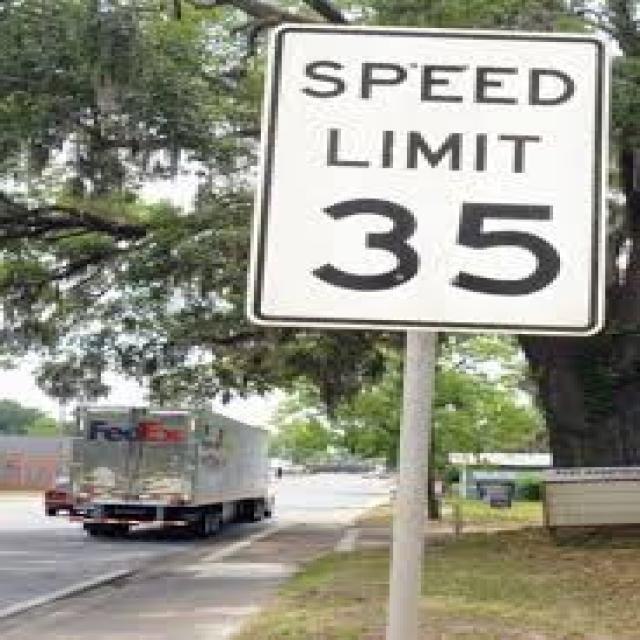speedLimit35: (240, 34, 616, 342)
